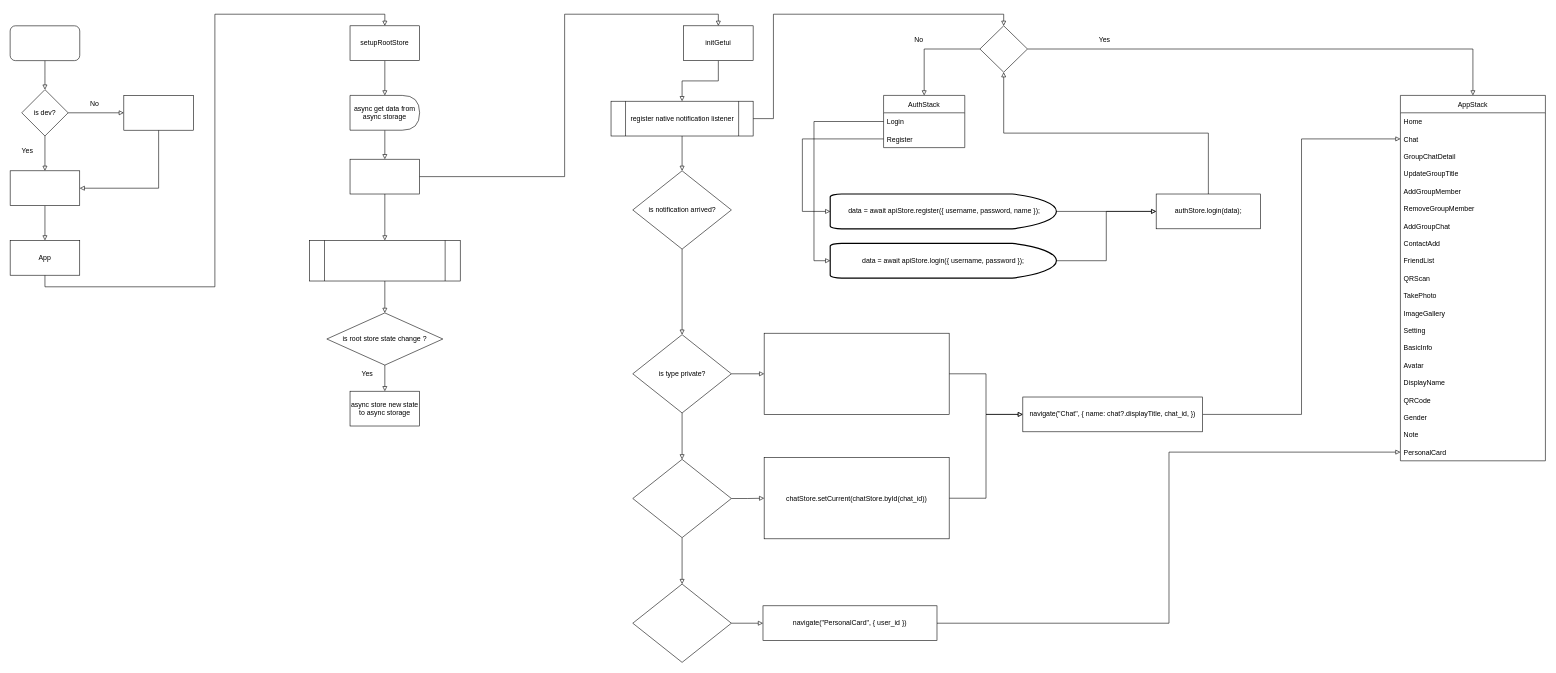
The diagram is 1556 pixels wide and 673 high, and some of its shapes have lost their labels. The shapes that lost their labels are listed below. From the top down, each one's centre as x and y in pixels, then its label:
At (x=45, y=43): "lunch nbchat app".
At (x=1003, y=48): "is login?".
At (x=158, y=112): "codePush".
At (x=45, y=188): "sentry".
At (x=384, y=176): "use data to create RootStore".
At (x=384, y=260): "onSnapshot(RootStore)".
At (x=856, y=373): "chatStore.setCurrent(chatStore.chats.gets(user_id))".
At (x=681, y=498): "is type chat?".
At (x=681, y=622): "is type friend?".
